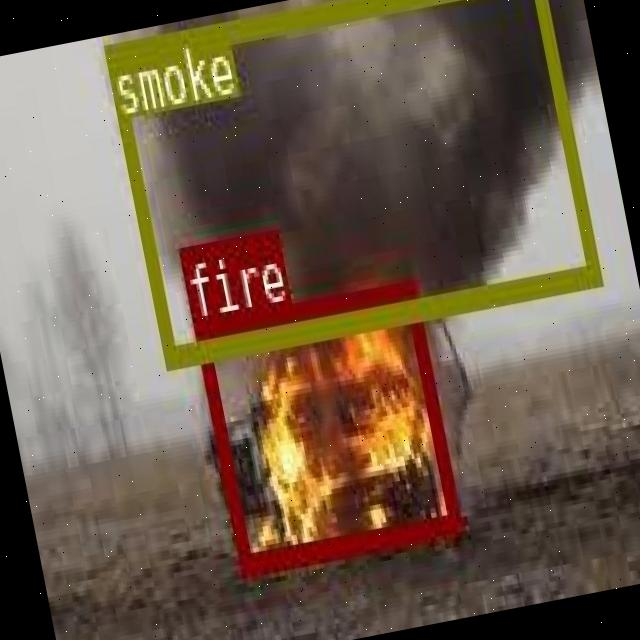fire: (191, 280, 458, 571)
smoke: (102, 0, 599, 363)
